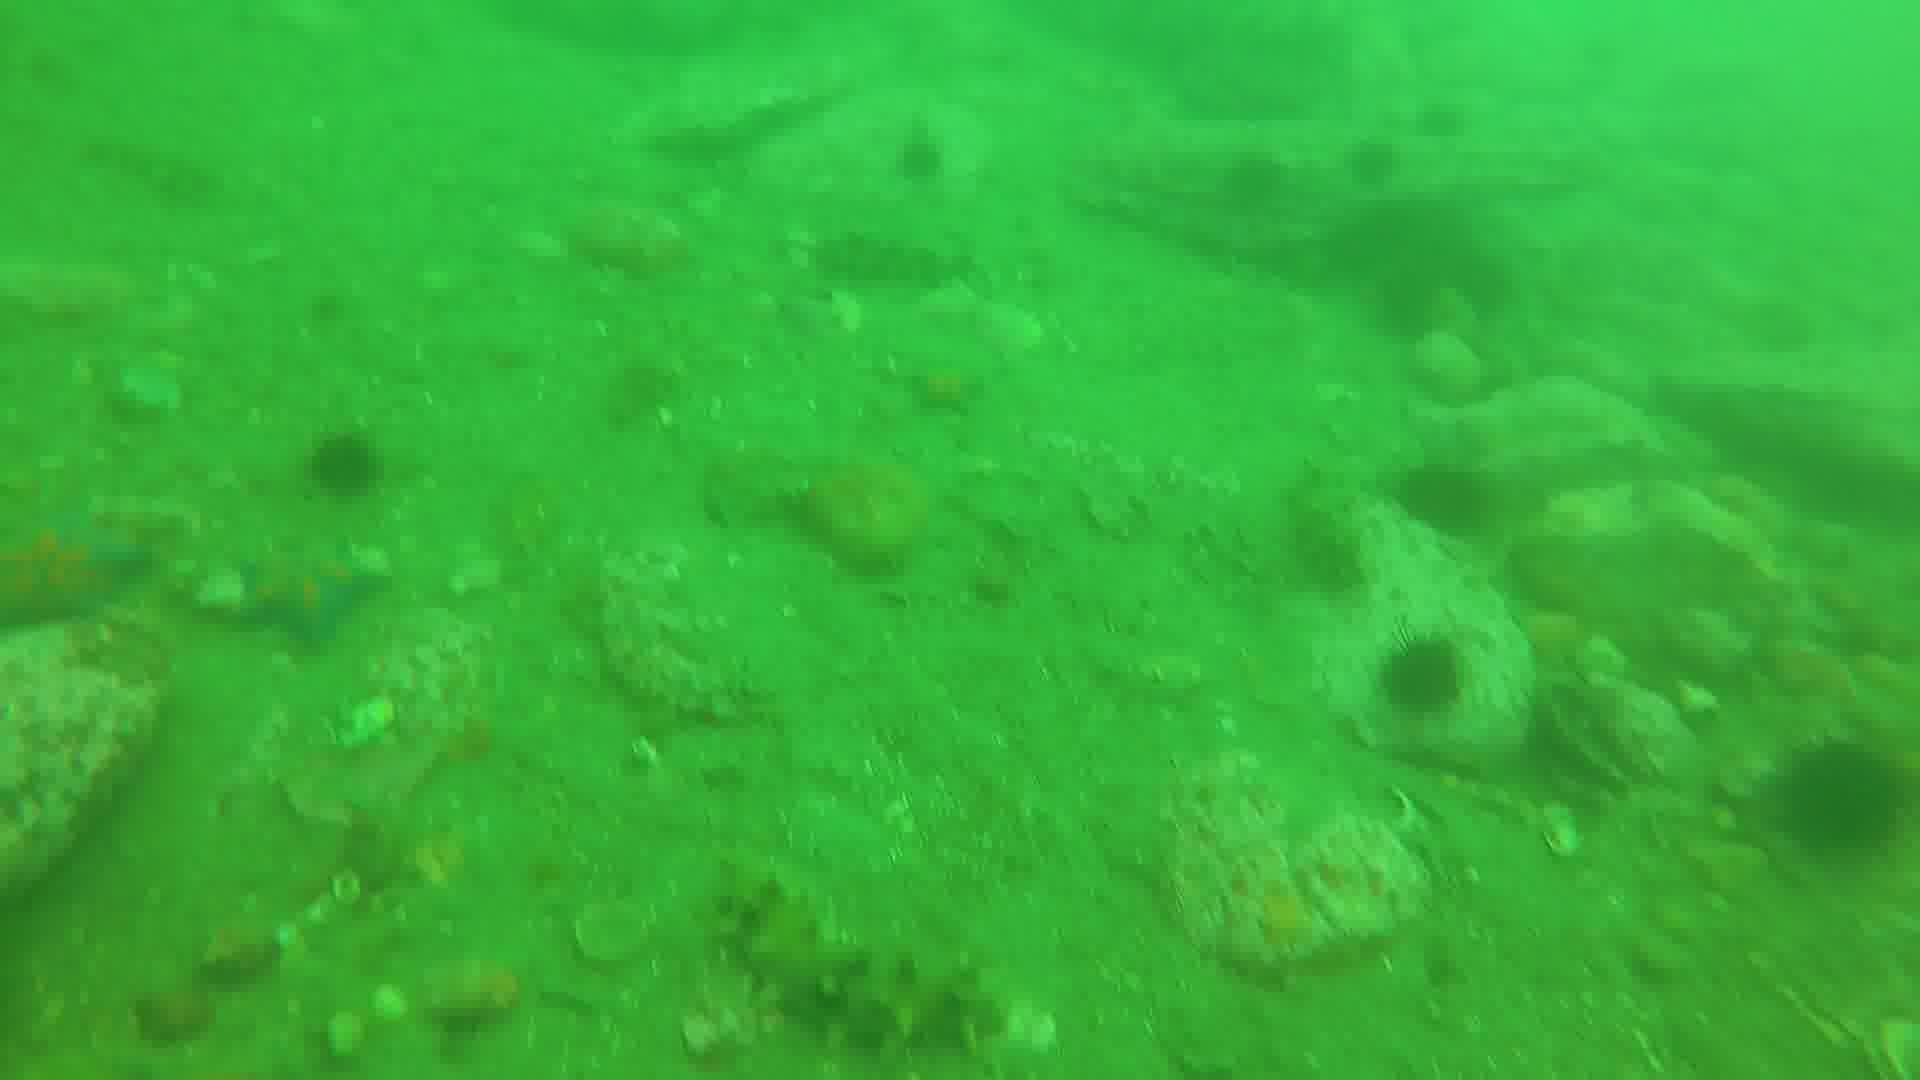echinus: (1771, 735, 1909, 861), (1399, 464, 1495, 539), (1391, 636, 1462, 713), (316, 431, 380, 502), (1352, 132, 1418, 193), (884, 135, 955, 185), (1236, 152, 1288, 198)
holothurian: (713, 868, 1005, 1048), (820, 222, 981, 294), (95, 136, 224, 208)
starfish: (1, 526, 167, 632), (236, 549, 392, 647), (913, 355, 989, 425)
